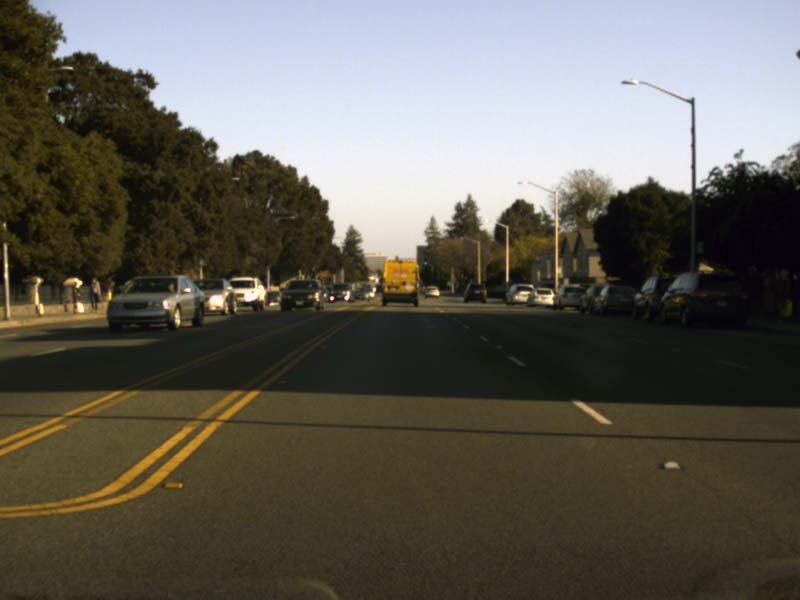Green: (423, 257, 427, 267), (463, 273, 467, 280)
